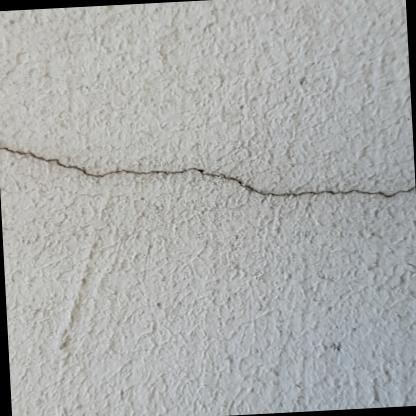crack: (0, 147, 415, 197)
